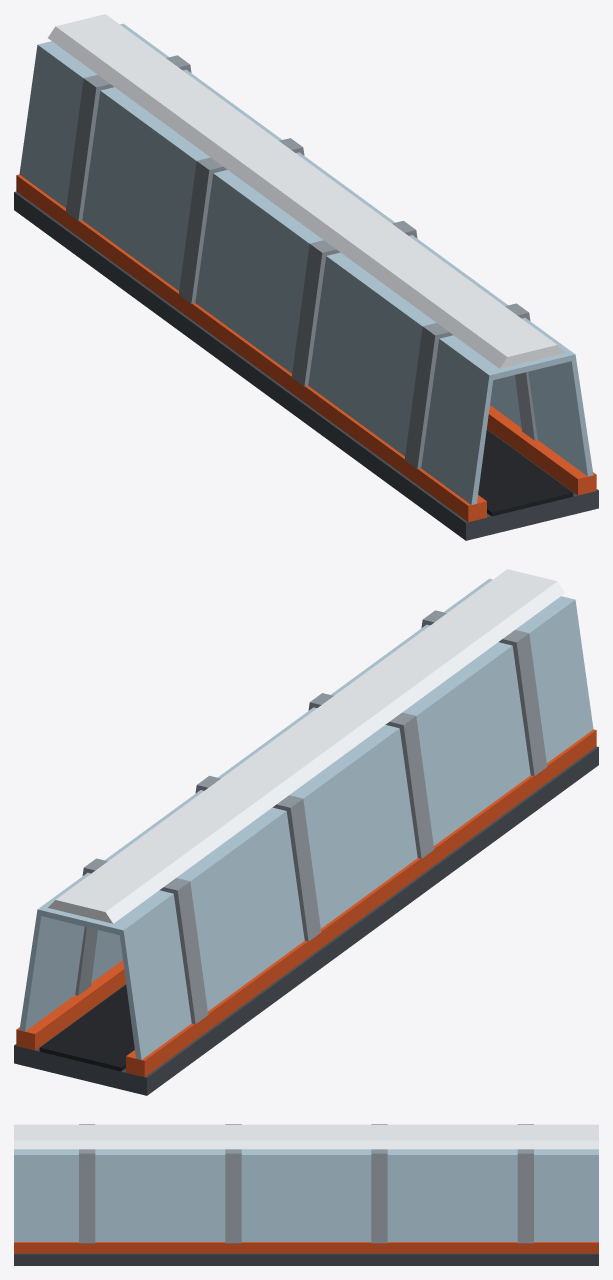
Rendered from magic-carpet.glb.
3 views of the same model, one above another, from view 1: azimuth 30°, elevation 25°; view 2: azimuth 150°, elevation 25°; view 3: azimuth 270°, elevation 25° (orthographic). The views are drawn at different scales.
Visible parts, largest first — view 1: magic-carpet; view 2: magic-carpet; view 3: magic-carpet.
Boxes of the visible parts, <box> form: magic-carpet: <box>14,14,598,540</box>; magic-carpet: <box>14,569,598,1095</box>; magic-carpet: <box>14,1124,598,1265</box>.
Bounding box in the file's own units: 1.7 × 2.12 × 10.
